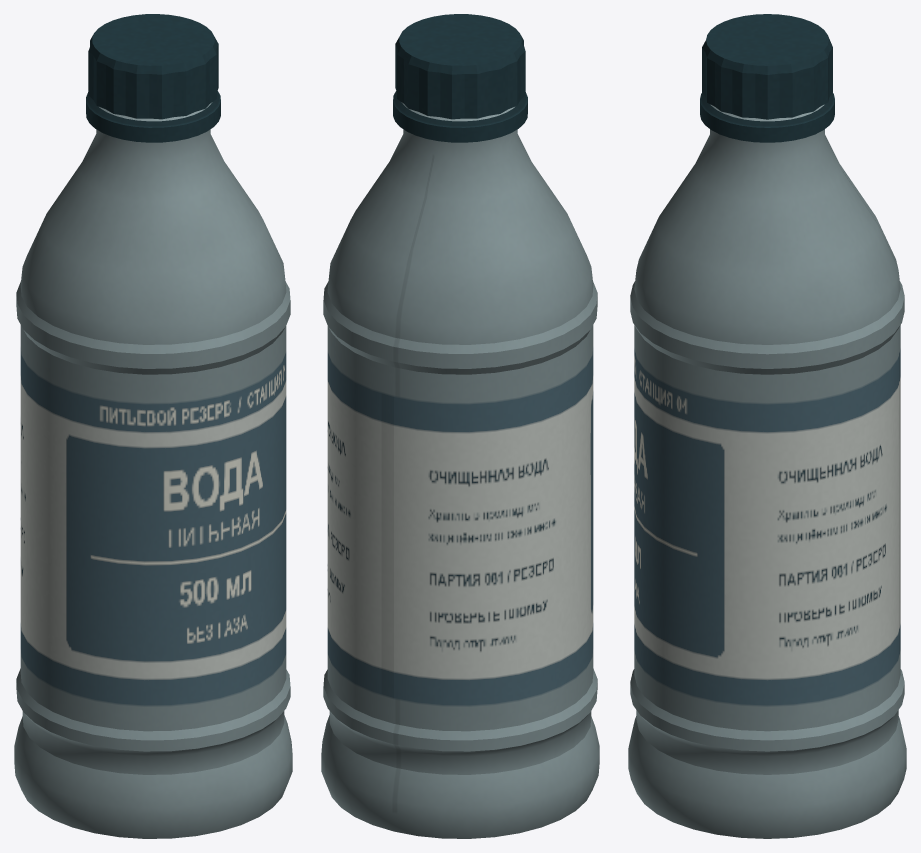
The model's file is water_bottle_drink.glb.
The picture shows the model from 3 angles, left to right: view 1: azimuth 30°, elevation 25°; view 2: azimuth 150°, elevation 25°; view 3: azimuth 270°, elevation 25°; orthographic projection.
Parts seen in each view (by area): view 1: BottleBody, BottleCap; view 2: BottleBody, BottleCap; view 3: BottleBody, BottleCap.
Boxes of the visible parts, bbox=[...] form: BottleBody: bbox=[14, 91, 292, 838]; BottleCap: bbox=[88, 14, 218, 119]; BottleBody: bbox=[321, 91, 599, 838]; BottleCap: bbox=[395, 14, 525, 119]; BottleBody: bbox=[628, 92, 906, 838]; BottleCap: bbox=[702, 14, 832, 119].
Bounding box in the file's own units: 0.068 × 0.2 × 0.068.
Materials: 1 (1 with a texture image).
